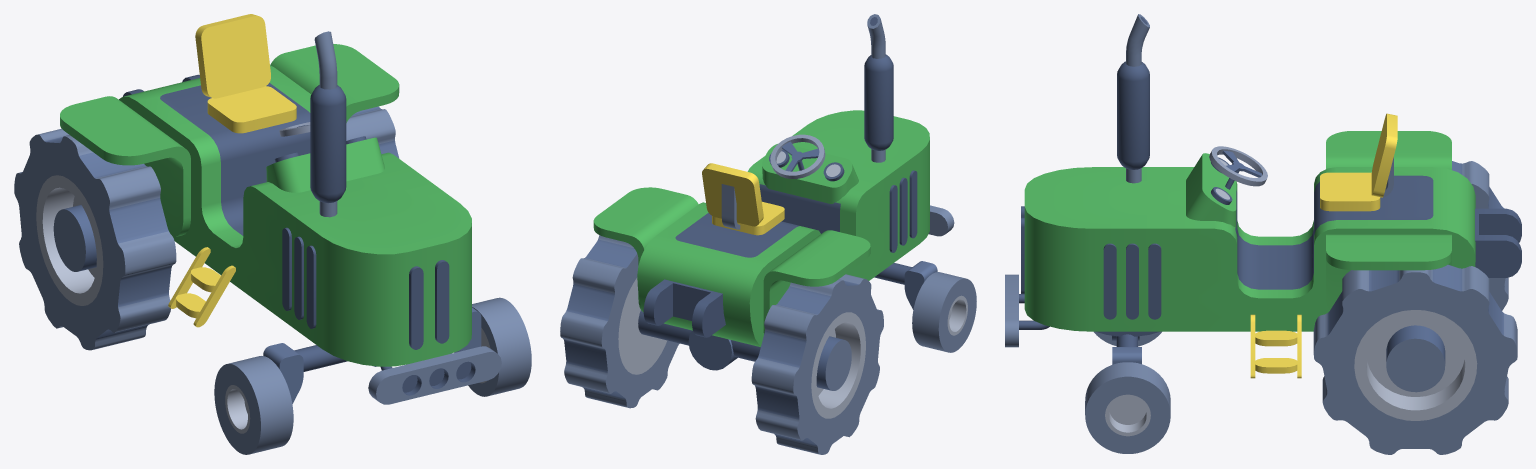
Rendered from Tractor small.fbx.
3 views of the same model, side by side, from view 1: azimuth 30°, elevation 25°; view 2: azimuth 150°, elevation 25°; view 3: azimuth 270°, elevation 25° (orthographic). The views are drawn at different scales.
Visible parts, largest first — view 1: Tractor Small, Wheel tractor back, Wheel tractor front R, Wheel tractor front L; view 2: Tractor Small, Wheel tractor back, Wheel tractor front R; view 3: Tractor Small, Wheel tractor back, Wheel tractor front L.
Boxes of the visible parts, left/top/right/bottom form: Tractor Small: left=60, top=14, right=501, bottom=404; Wheel tractor back: left=14, top=106, right=399, bottom=350; Wheel tractor front R: left=214, top=356, right=293, bottom=454; Wheel tractor front L: left=468, top=297, right=531, bottom=396; Tractor Small: left=593, top=14, right=954, bottom=370; Wheel tractor back: left=560, top=235, right=883, bottom=454; Wheel tractor front R: left=912, top=272, right=976, bottom=352; Tractor Small: left=1005, top=14, right=1521, bottom=378; Wheel tractor back: left=1313, top=161, right=1517, bottom=454; Wheel tractor front L: left=1085, top=362, right=1170, bottom=453.
Size of the model in its own units: 2.29 by 2.94 by 3.83.
